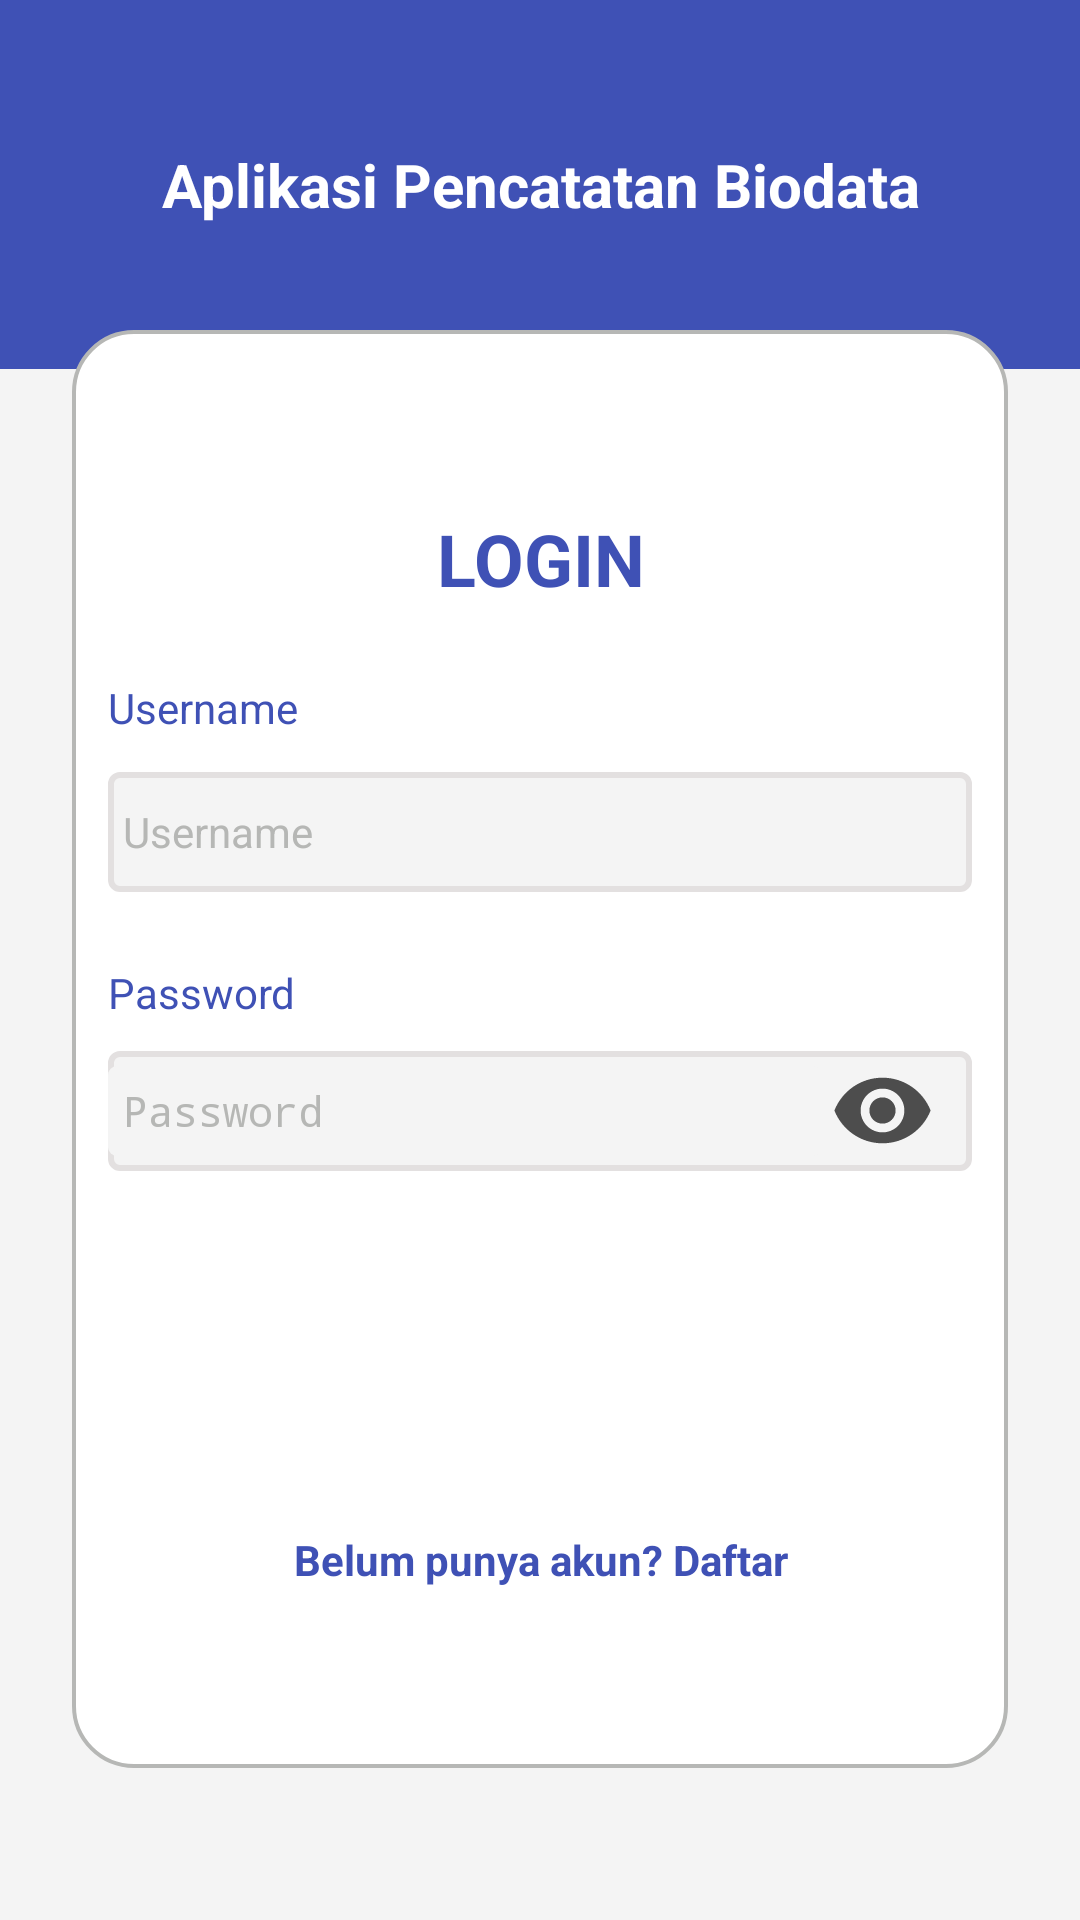

Named icons in this screenshot (1080px×1920px) and their centers, (x,y):
show: (882,1110)
